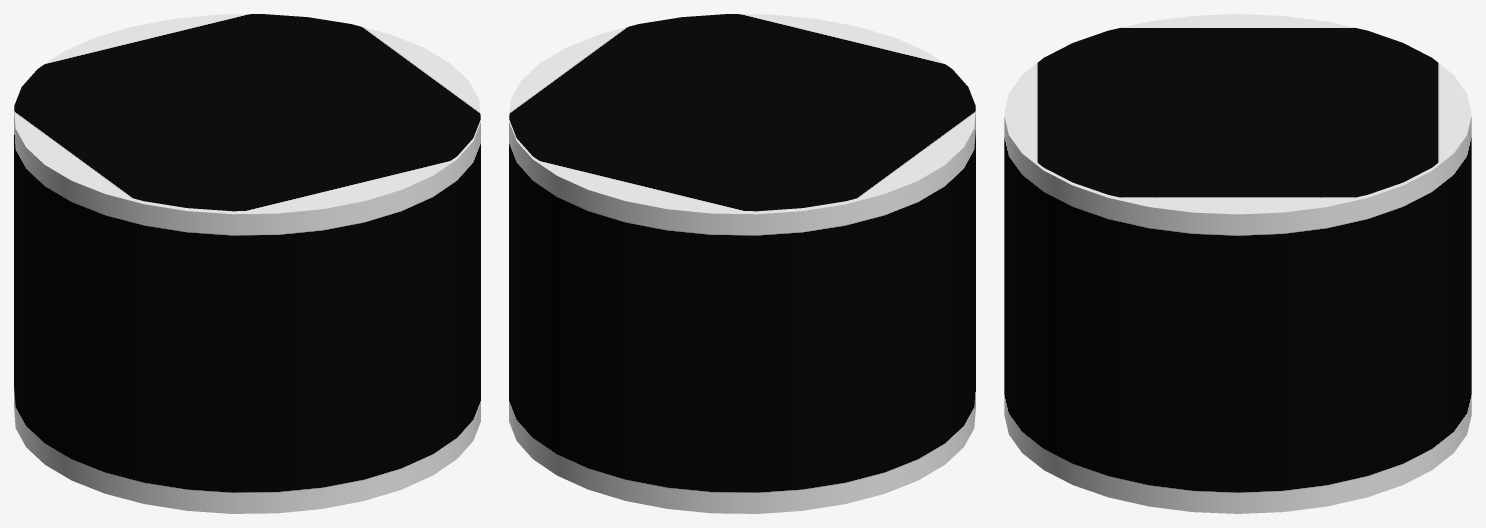
The model's file is LeapMotionCylinderButton.FBX.
3 views of the same model, side by side, from view 1: azimuth 30°, elevation 25°; view 2: azimuth 150°, elevation 25°; view 3: azimuth 270°, elevation 25° (orthographic).
Visible parts, largest first — view 1: LeapMotionCylinderButton; view 2: LeapMotionCylinderButton; view 3: LeapMotionCylinderButton.
Boxes of the visible parts, left/top/right/bottom form: LeapMotionCylinderButton: left=14, top=14, right=480, bottom=513; LeapMotionCylinderButton: left=509, top=14, right=975, bottom=513; LeapMotionCylinderButton: left=1004, top=14, right=1471, bottom=513.
Bounding box in the file's own units: 141 × 101 × 141.
